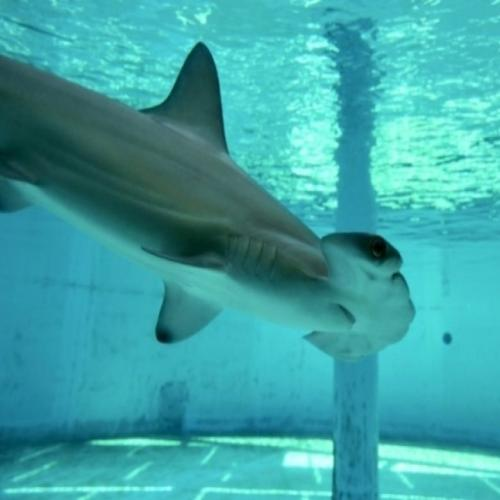shark-endangered: (0, 41, 418, 365)
